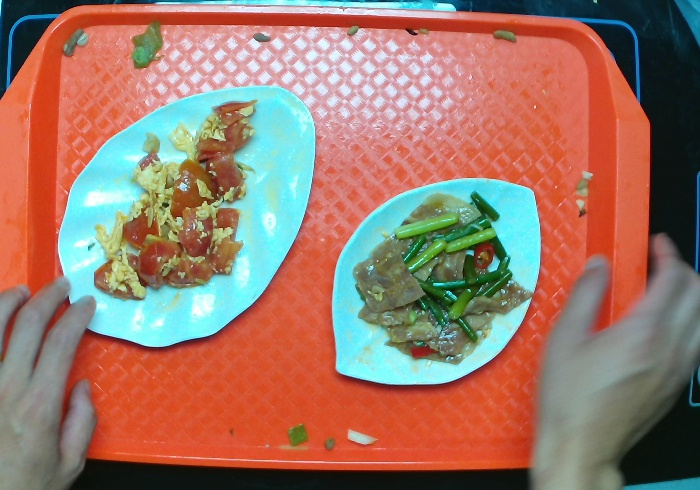RJxy-Bai_Ye_Pan: (48, 79, 317, 354)
RJxy-Da_Du_Pan: (327, 177, 543, 386)
